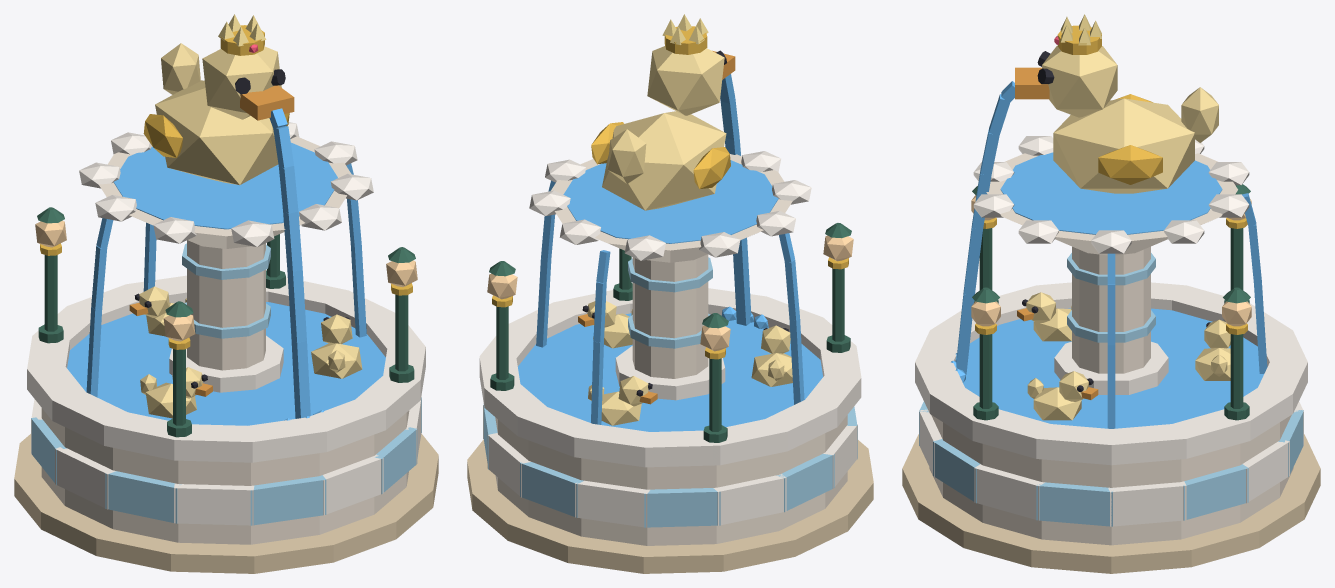
The model's file is CatCafe_Decor_DuckFountain.fbx.
The picture shows the model from 3 angles, left to right: view 1: azimuth 30°, elevation 25°; view 2: azimuth 150°, elevation 25°; view 3: azimuth 270°, elevation 25°; orthographic projection. The views are drawn at different scales.
Visible parts, largest first — view 1: CatCafe_Decor_DuckFountain, CatCafe_Decor_DuckFountain_Water, CatCafe_Decor_DuckFountain_Ducklings_Spin, CatCafe_Decor_DuckFountain_Glow; view 2: CatCafe_Decor_DuckFountain, CatCafe_Decor_DuckFountain_Water, CatCafe_Decor_DuckFountain_Ducklings_Spin, CatCafe_Decor_DuckFountain_Glow; view 3: CatCafe_Decor_DuckFountain, CatCafe_Decor_DuckFountain_Water, CatCafe_Decor_DuckFountain_Ducklings_Spin, CatCafe_Decor_DuckFountain_Glow.
Boxes of the visible parts, x1,y1,x2,y2 form: CatCafe_Decor_DuckFountain: (14,14,438,573); CatCafe_Decor_DuckFountain_Water: (67,108,385,425); CatCafe_Decor_DuckFountain_Ducklings_Spin: (129,286,362,418); CatCafe_Decor_DuckFountain_Glow: (35,220,417,341); CatCafe_Decor_DuckFountain: (467,14,873,573); CatCafe_Decor_DuckFountain_Water: (518,74,822,431); CatCafe_Decor_DuckFountain_Ducklings_Spin: (578,301,792,425); CatCafe_Decor_DuckFountain_Glow: (487,235,853,351); CatCafe_Decor_DuckFountain: (902,14,1320,573); CatCafe_Decor_DuckFountain_Water: (951,81,1267,428); CatCafe_Decor_DuckFountain_Ducklings_Spin: (1017,292,1230,420); CatCafe_Decor_DuckFountain_Glow: (971,195,1251,326).
Bounding box in the file's own units: 2.64 × 3.24 × 2.64.
Materials: 1 (1 with a texture image).
